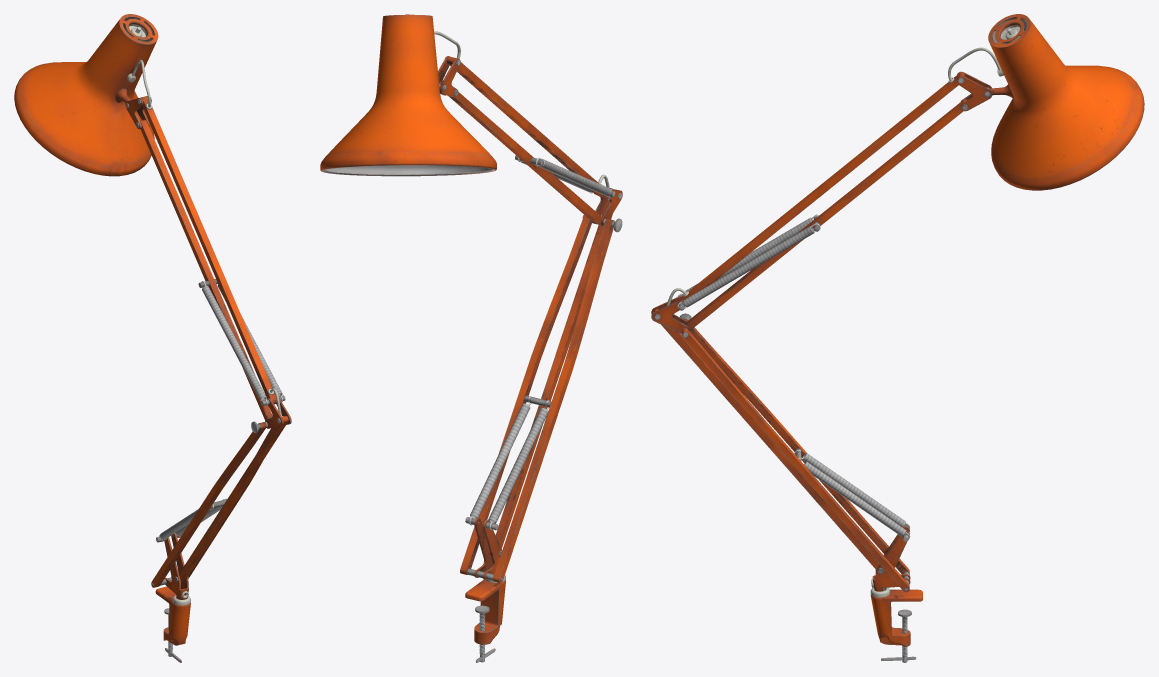
The model's file is desk-lamp.glb.
The picture shows the model from 3 angles, left to right: view 1: azimuth 30°, elevation 25°; view 2: azimuth 150°, elevation 25°; view 3: azimuth 270°, elevation 25°; orthographic projection. The views are drawn at different scales.
Visible parts, largest first — view 1: desk_lamp_arm_01; view 2: desk_lamp_arm_01; view 3: desk_lamp_arm_01.
Part boxes in pixels (x1=…): desk_lamp_arm_01: x1=14, y1=14, x2=291, y2=662; desk_lamp_arm_01: x1=320, y1=14, x2=622, y2=662; desk_lamp_arm_01: x1=651, y1=14, x2=1144, y2=662.
Size of the model in its own units: 0.2017 by 0.8926 by 0.6139.
Materials: 2 (2 with a texture image).
